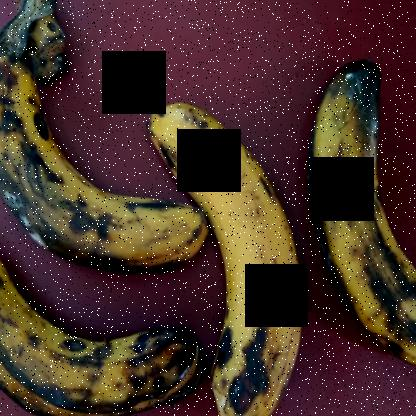overripe: (140, 80, 320, 415)
rotten: (0, 46, 224, 280), (0, 226, 211, 415), (304, 48, 415, 375)
